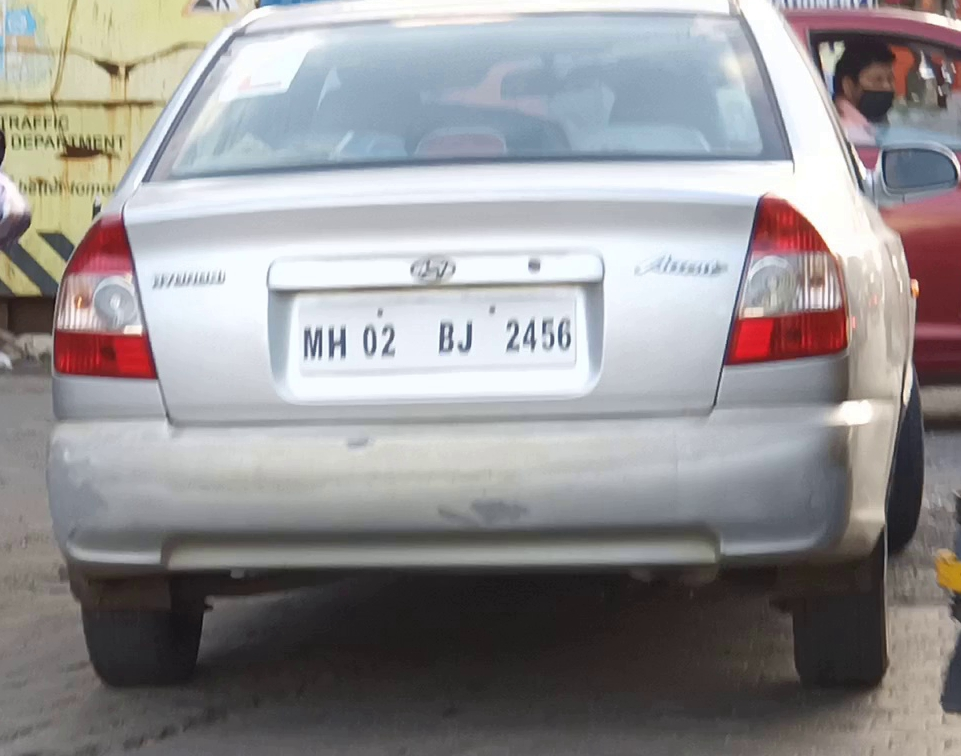MH02BJ2456: (291, 293, 577, 375)
